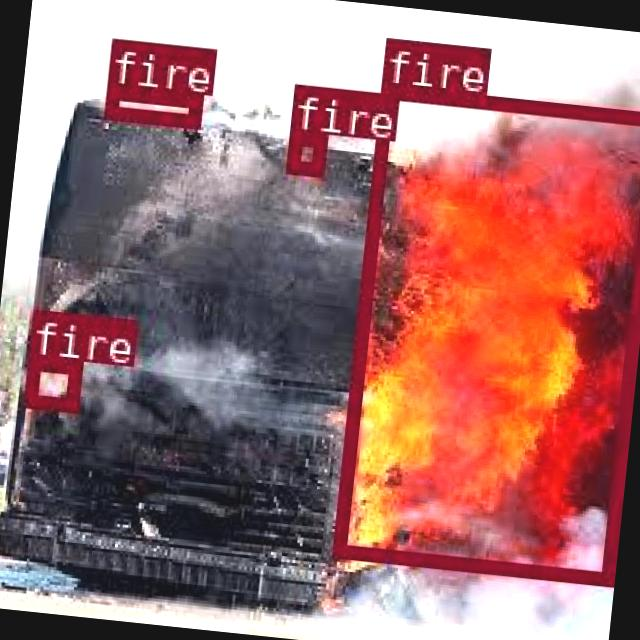fire: (331, 81, 640, 581), (101, 82, 198, 124), (22, 354, 80, 408), (284, 127, 324, 172)
